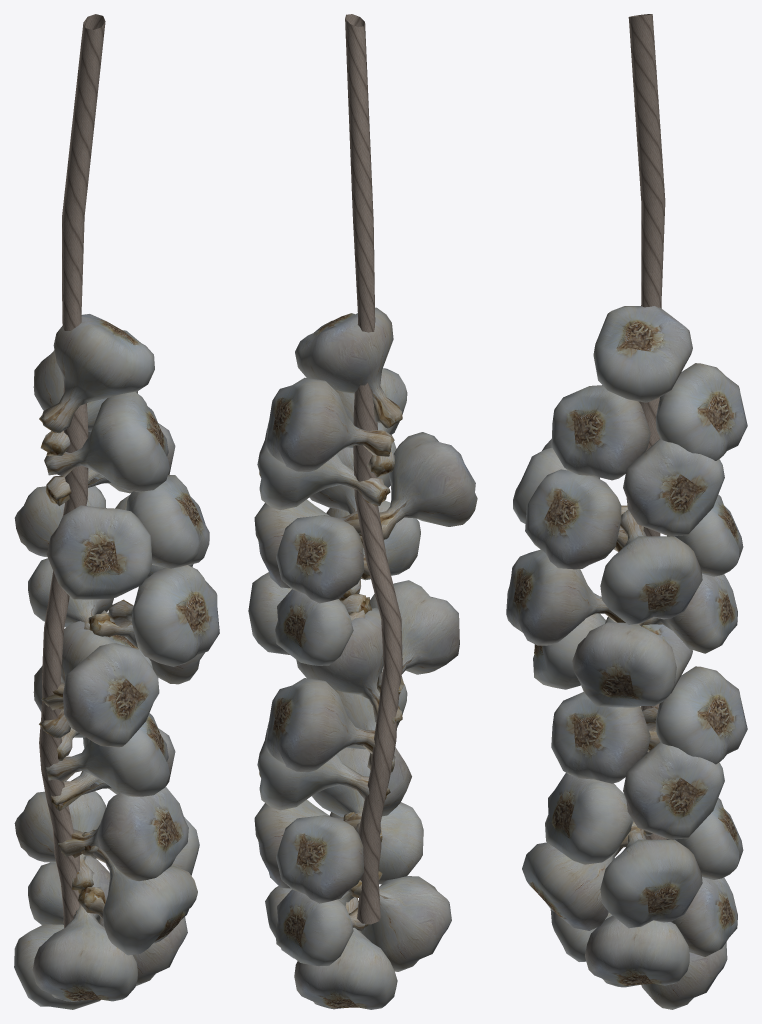
The model's file is SM_GarlicBraid1.fbx.
3 renders of one model, left to right at view 1: azimuth 30°, elevation 25°; view 2: azimuth 150°, elevation 25°; view 3: azimuth 270°, elevation 25°, orthographic.
Parts seen in each view (by area): view 1: SM_GarlicBraid1_LOD0; view 2: SM_GarlicBraid1_LOD0; view 3: SM_GarlicBraid1_LOD0.
Boxes of the visible parts, <box> form: SM_GarlicBraid1_LOD0: <box>14,14,219,1009</box>; SM_GarlicBraid1_LOD0: <box>248,14,477,1009</box>; SM_GarlicBraid1_LOD0: <box>506,14,747,1009</box>.
Bounding box in the file's own units: 21.11 × 23.97 × 109.
